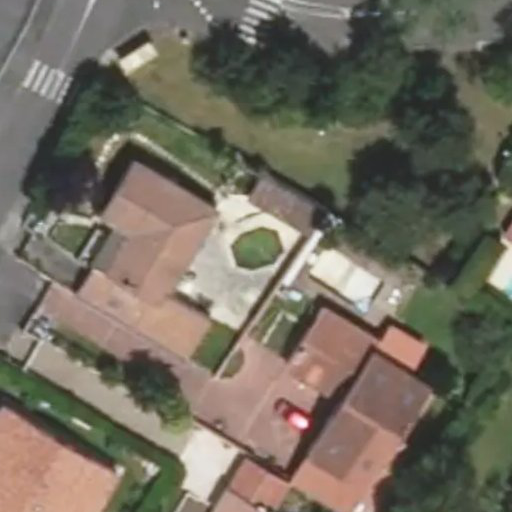pool: (224, 229, 286, 254)
